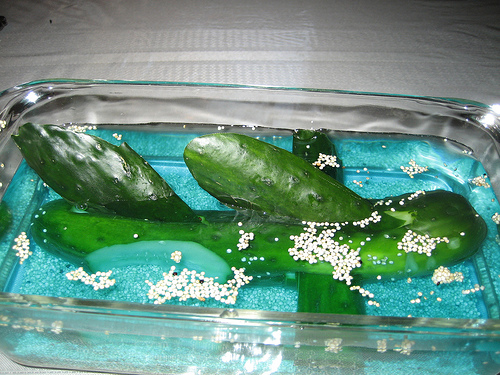cucumber: (35, 188, 490, 281), (182, 132, 401, 226), (10, 122, 200, 230), (294, 128, 368, 362)
